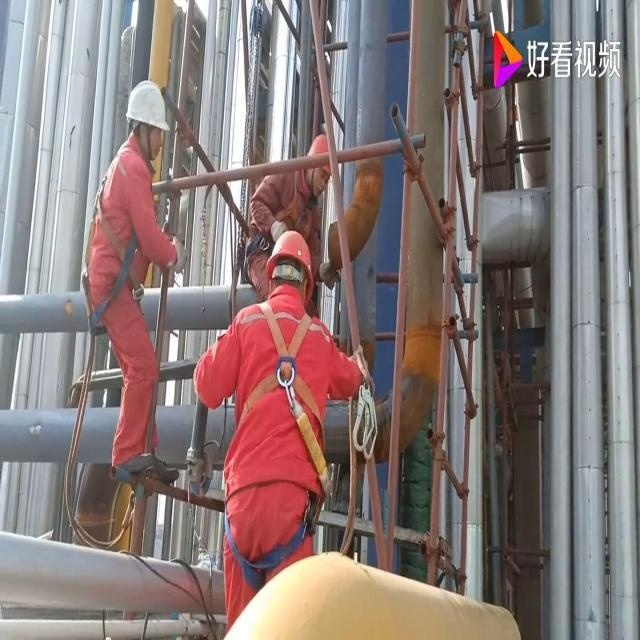Arnes_seguridad: (235, 294, 329, 430), (80, 139, 150, 321), (251, 165, 321, 240)
